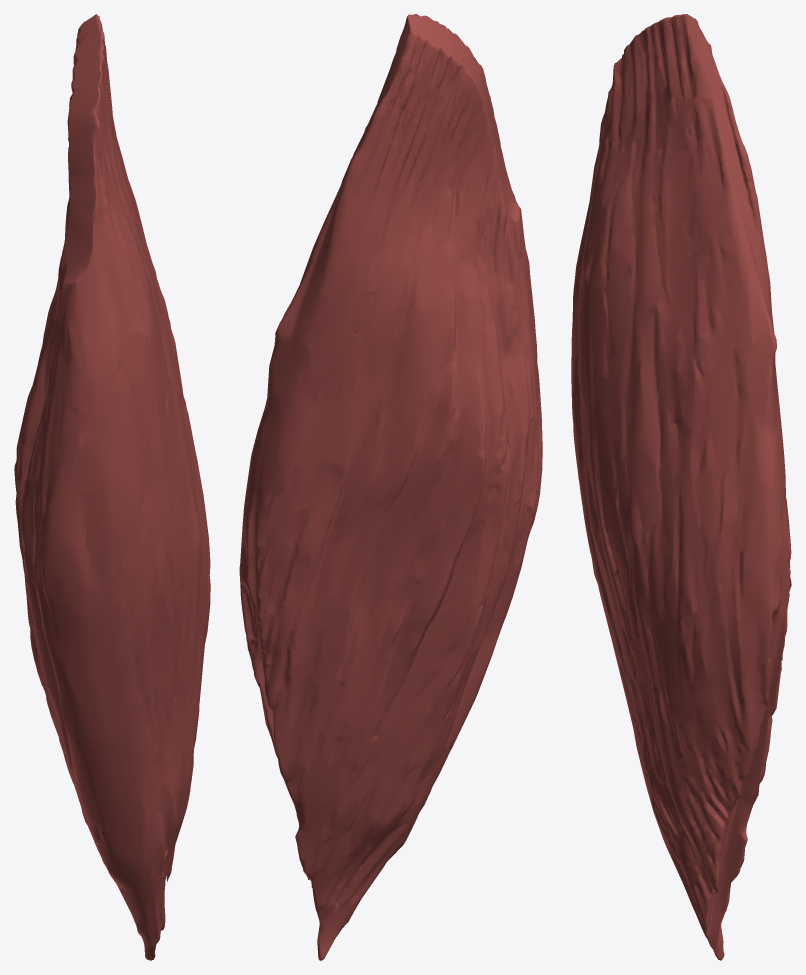
File: FMA22426.glb
3 views of the same model, side by side, from view 1: azimuth 30°, elevation 25°; view 2: azimuth 150°, elevation 25°; view 3: azimuth 270°, elevation 25° (orthographic). The views are drawn at different scales.
Visible parts, largest first — view 1: FMA22426; view 2: FMA22426; view 3: FMA22426.
Boxes of the visible parts, x1,y1,x2,y2 form: FMA22426: [14, 14, 210, 960]; FMA22426: [239, 14, 542, 960]; FMA22426: [571, 14, 791, 960].
Size of the model in its own units: 0.0379 by 0.1561 by 0.0341.
